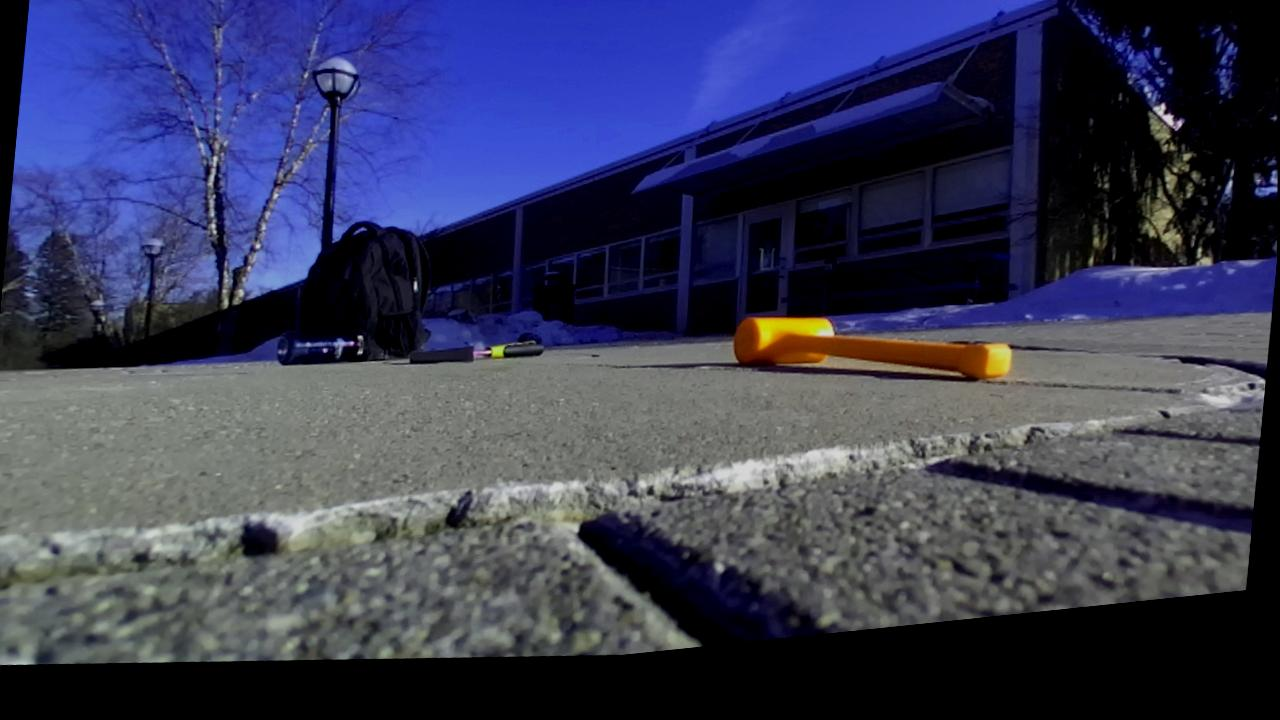bottle: (276, 331, 363, 365)
mallet: (732, 317, 1011, 379)
pick: (410, 341, 543, 364)
